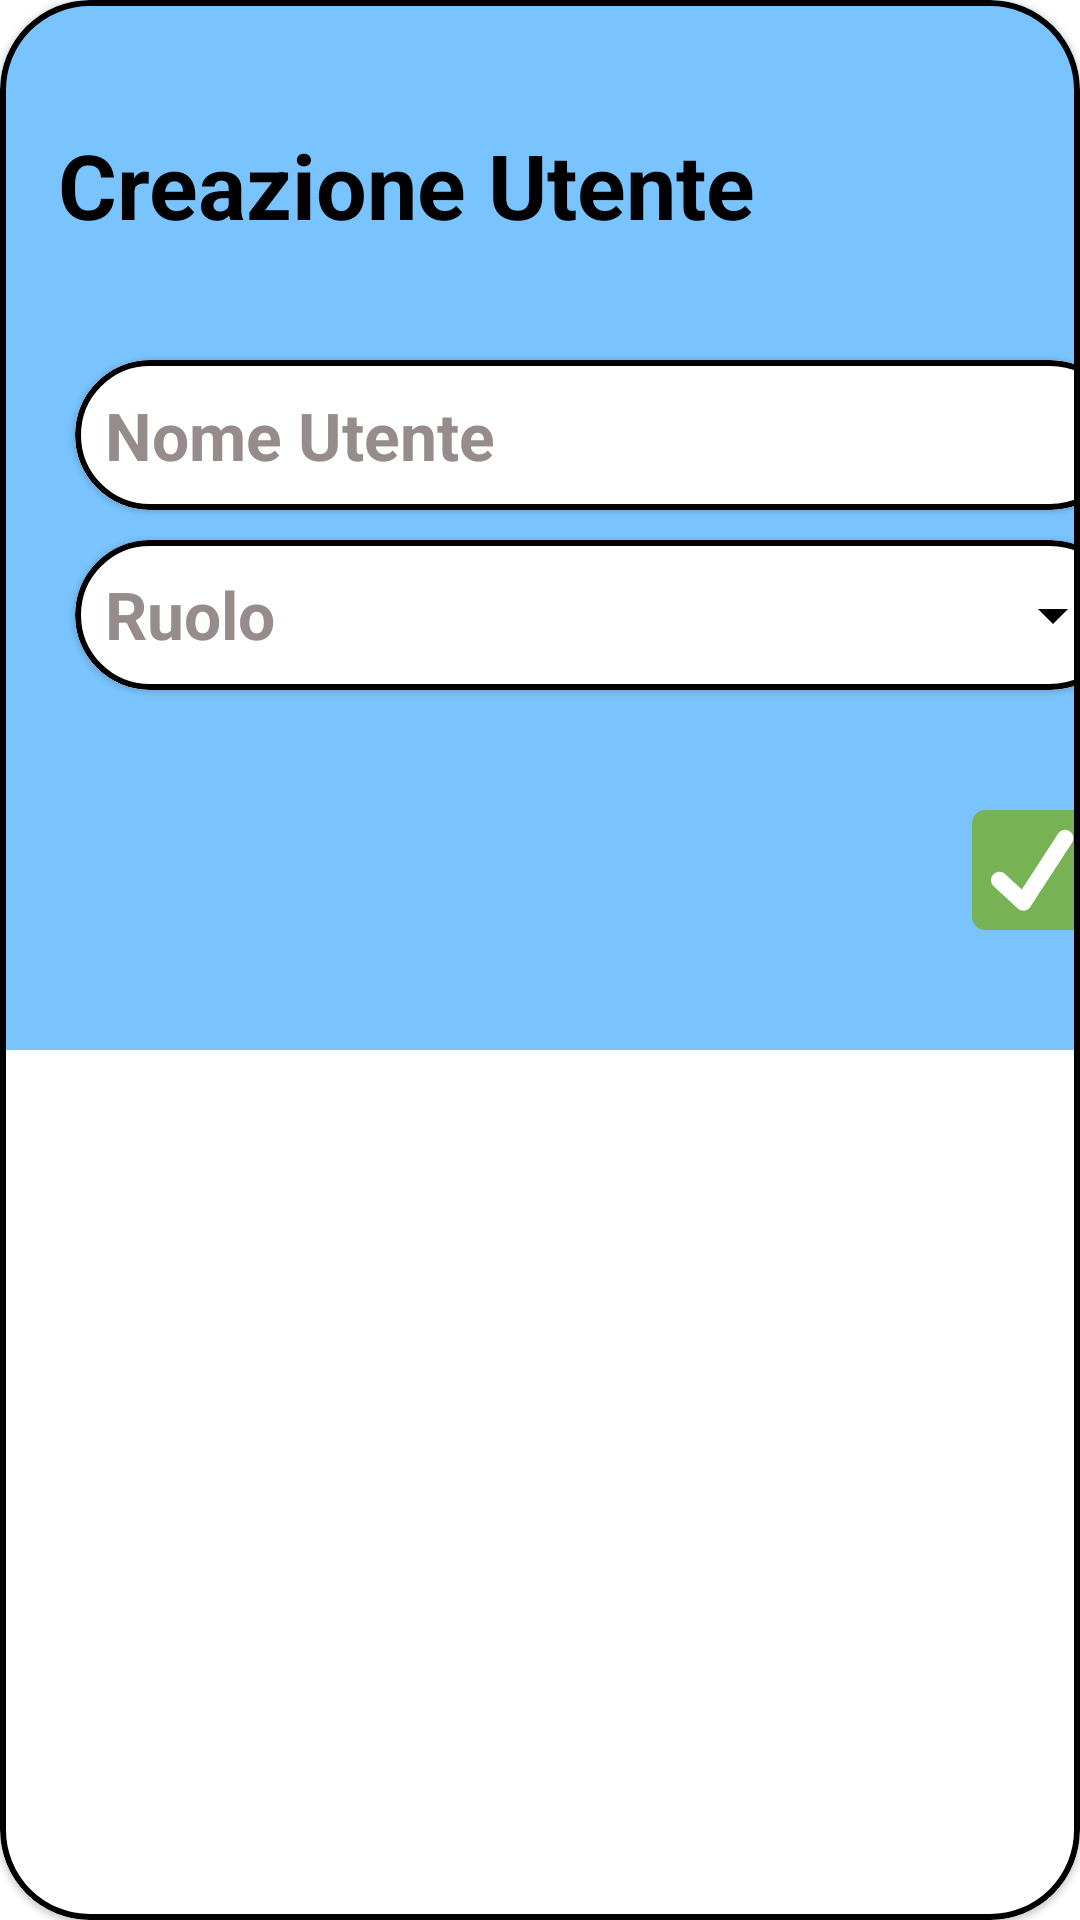

Icon click points for this 1080px x 1920px phone screenshot, format (x=x, y=y):
confirmvector: (x=1026, y=870)
